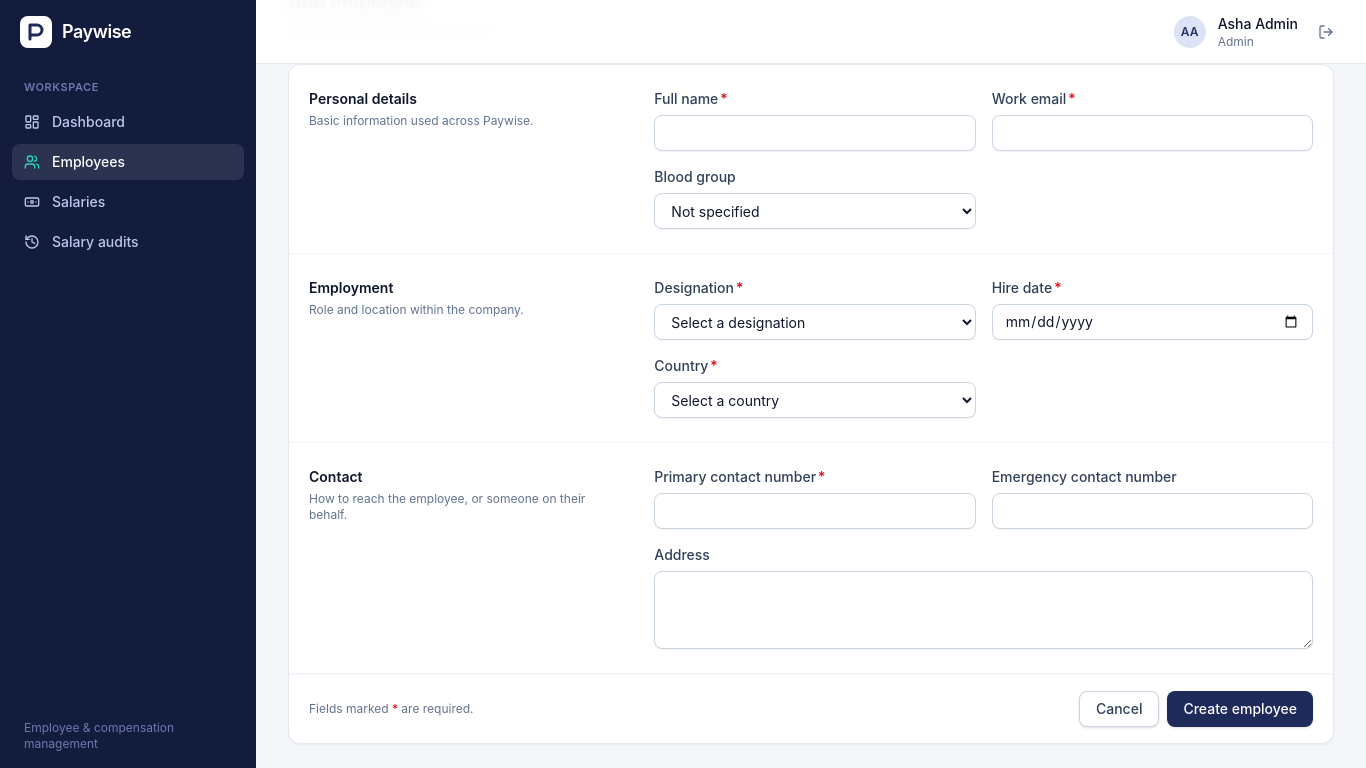
Scenario: EmployeeFormPage › shows validation messages for every required field
(page scrolled)
Click the button "Create employee". click: [1240, 709]
box: top-left (1167, 691), bottom-right (1313, 727)
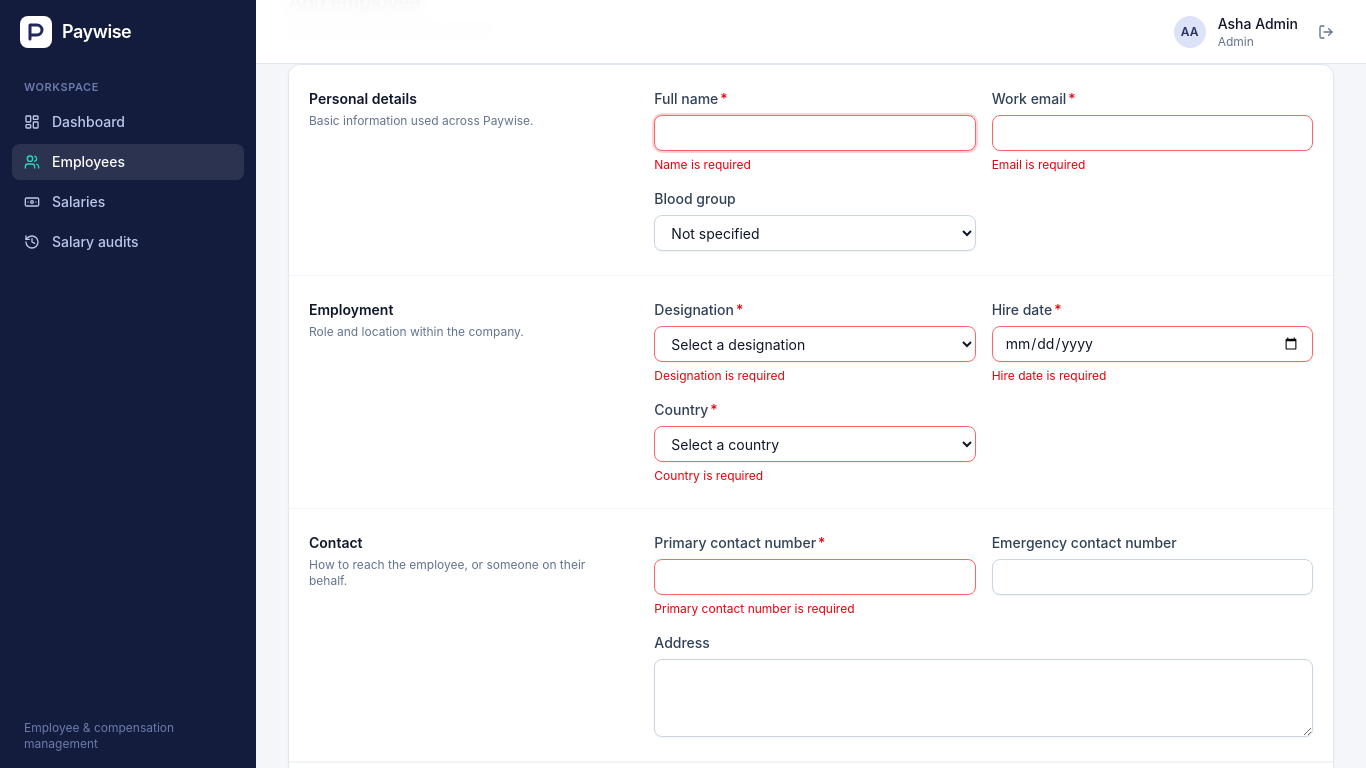
Now the text "Name is required" is shown, box top-left (654, 157), bottom-right (751, 172)
Now the text "Email is required" is shown, box top-left (992, 157), bottom-right (1085, 172)
Now the text "Designation is required" is shown, box top-left (654, 368), bottom-right (785, 383)
